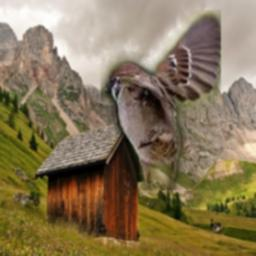Sparrow: (101, 11, 221, 191)
